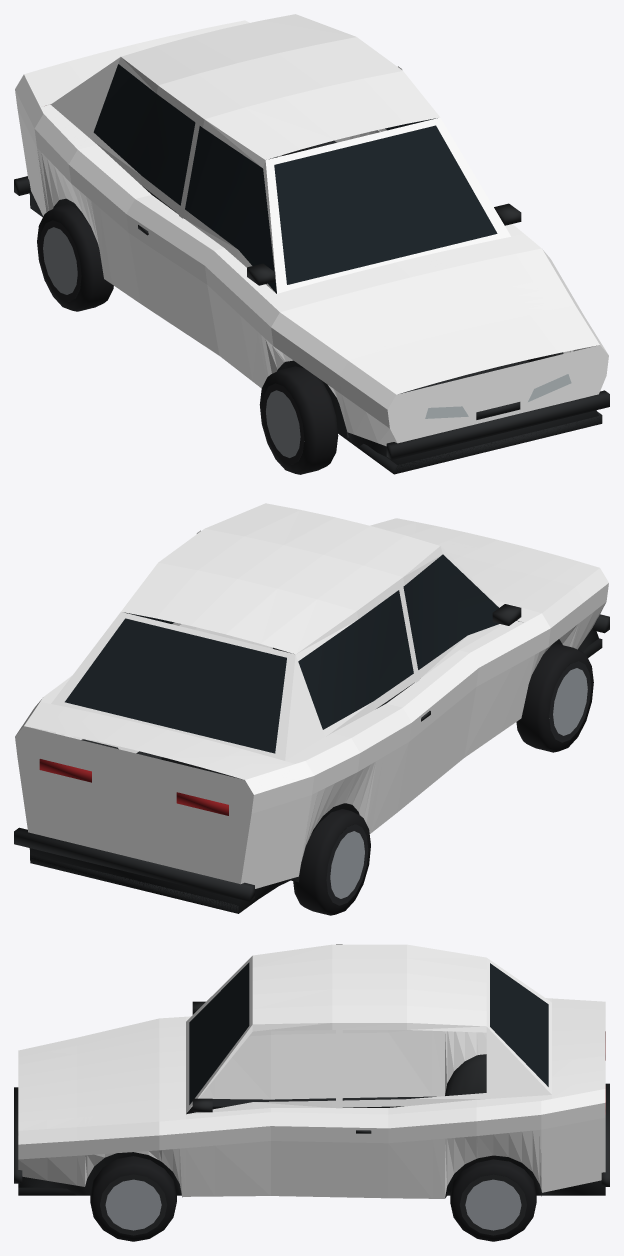
The model's file is feldhaus_rebento.glb.
3 views of the same model, one above another, from view 1: azimuth 30°, elevation 25°; view 2: azimuth 150°, elevation 25°; view 3: azimuth 270°, elevation 25° (orthographic). The views are drawn at different scales.
Parts seen in each view (by area): view 1: Body_Paint, Body_Details, Mount_FrontLeft_Wheel_Details, Mount_RearLeft_Wheel_Details; view 2: Body_Paint, Body_Details, Mount_FrontLeft_Wheel_Details, Mount_RearLeft_Wheel_Details; view 3: Body_Paint, Body_Details, Mount_FrontRight_Wheel_Details, Mount_RearRight_Wheel_Details.
Part boxes in pixels (box(x1,y1,x2,y2)): Body_Paint: box(15, 14, 608, 446); Body_Details: box(14, 64, 609, 474); Mount_FrontLeft_Wheel_Details: box(259, 366, 338, 474); Mount_RearLeft_Wheel_Details: box(37, 204, 113, 311); Body_Paint: box(15, 503, 608, 888); Body_Details: box(14, 554, 609, 913); Mount_FrontLeft_Wheel_Details: box(516, 643, 593, 752); Mount_RearLeft_Wheel_Details: box(293, 809, 370, 915); Body_Paint: box(18, 944, 605, 1198); Body_Details: box(14, 962, 609, 1198); Mount_FrontRight_Wheel_Details: box(90, 1156, 176, 1241); Mount_RearRight_Wheel_Details: box(450, 1159, 536, 1241).
Size of the model in its own units: 1.79 by 1.5 by 3.92.
Materials: 2 (1 with a texture image).
